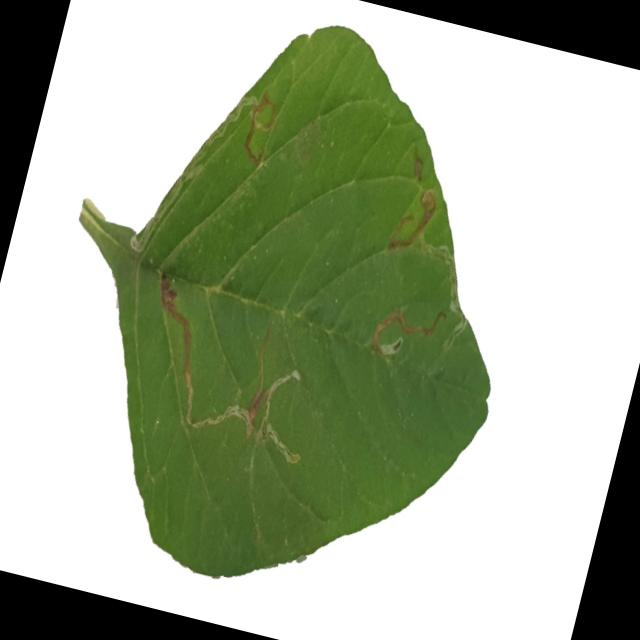Medicinal-Arive Dantu: (1, 0, 572, 634)
